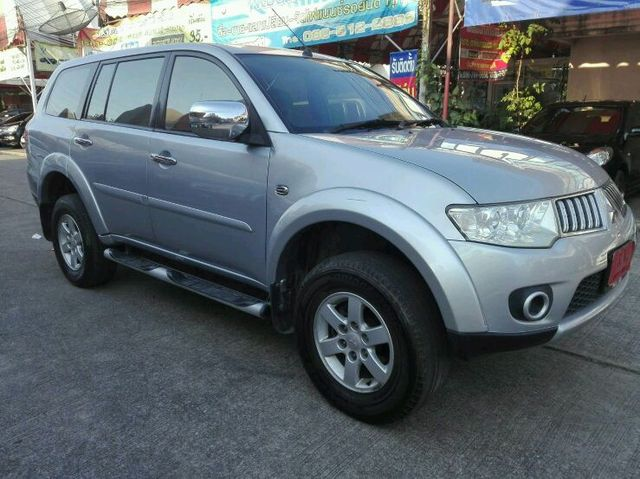pickup: (23, 41, 638, 425)
